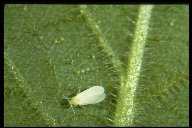whitefly: (64, 81, 109, 109)
